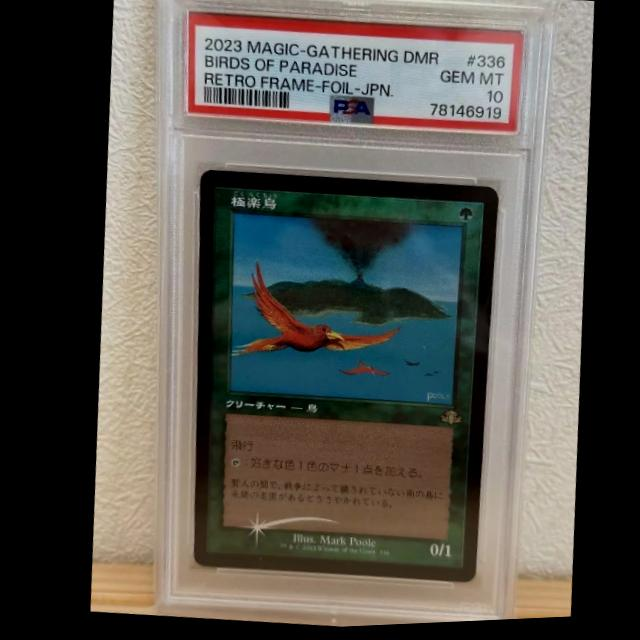card: (183, 170, 496, 587)
psa_label: (182, 12, 523, 138)
psa_slab: (144, 0, 555, 629)
